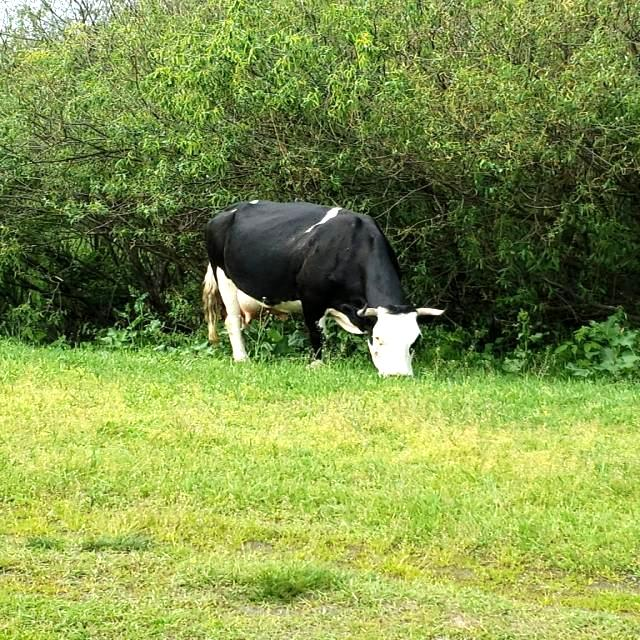COW: (204, 201, 444, 374)
